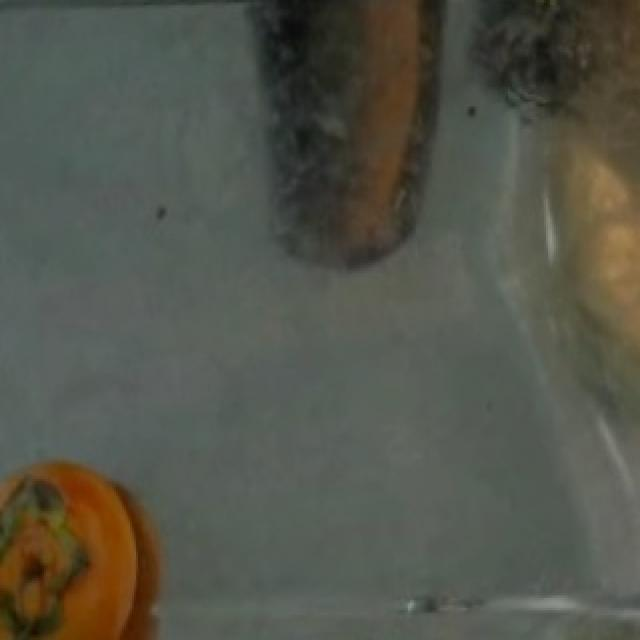Fruit: (0, 439, 166, 640)
